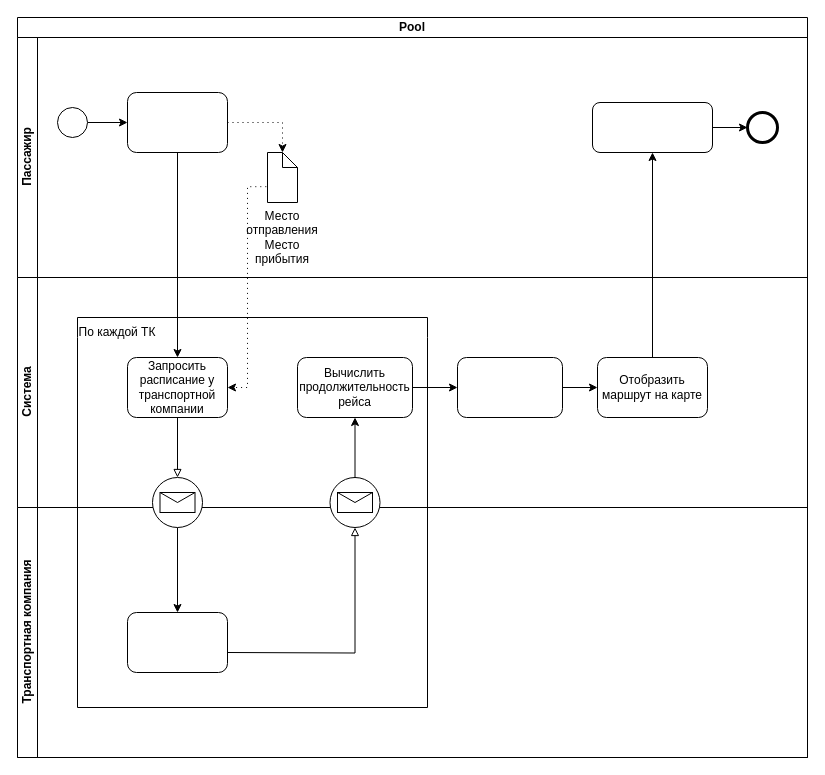
Some shapes in this 825 by 775 pixel diagram are drawn without their labels. Each missing label, with the box of its shape:
Ввести критерии для поиска маршрута: (126, 92, 228, 152)
Вычислить оптимальный маршрут: (456, 356, 562, 418)
Принятие решения по маршруту: (592, 102, 712, 152)
Сервис предоставляет маршруты: (126, 612, 228, 672)
